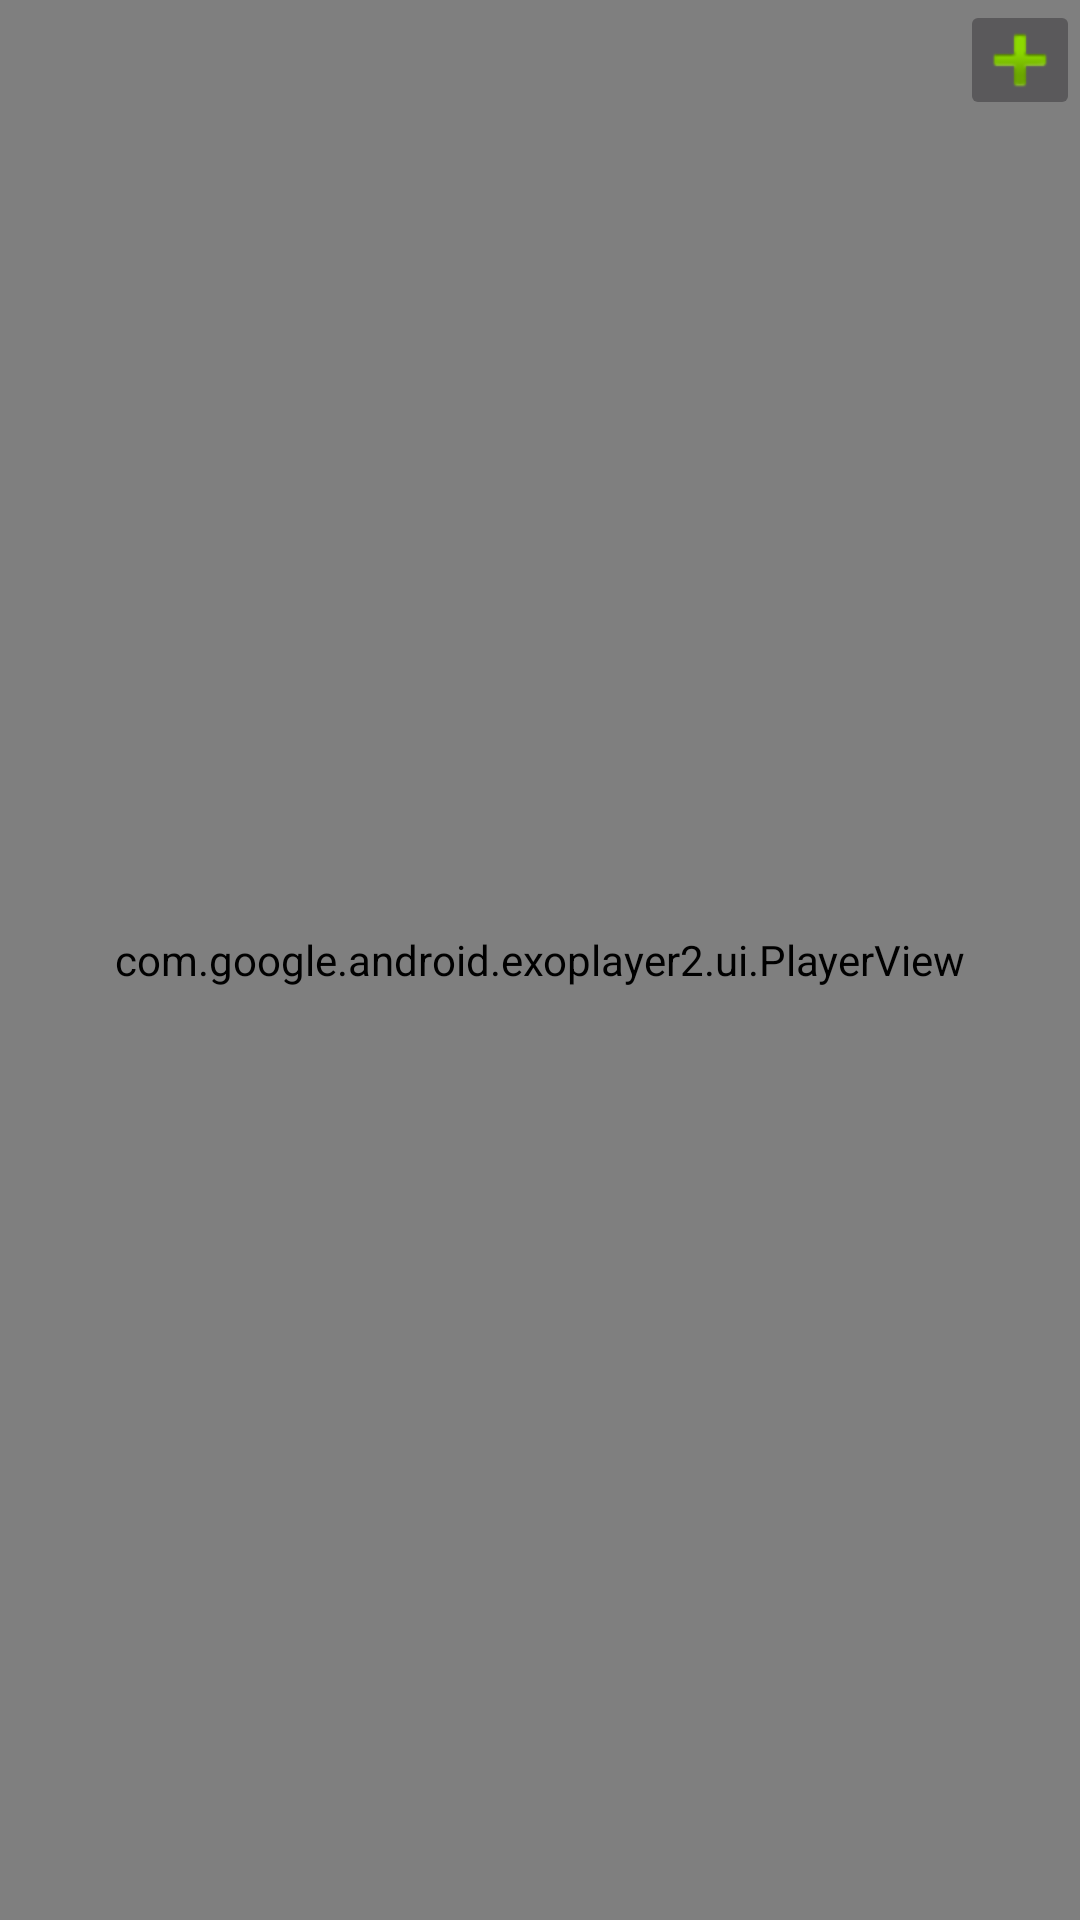

Locate icon controls on the screen. Image size 1080w x 1920h, boxes as [x1=x1, y1=y1, x2=x2, y2=y2].
add: [x1=972, y1=18, x2=1068, y2=102]
